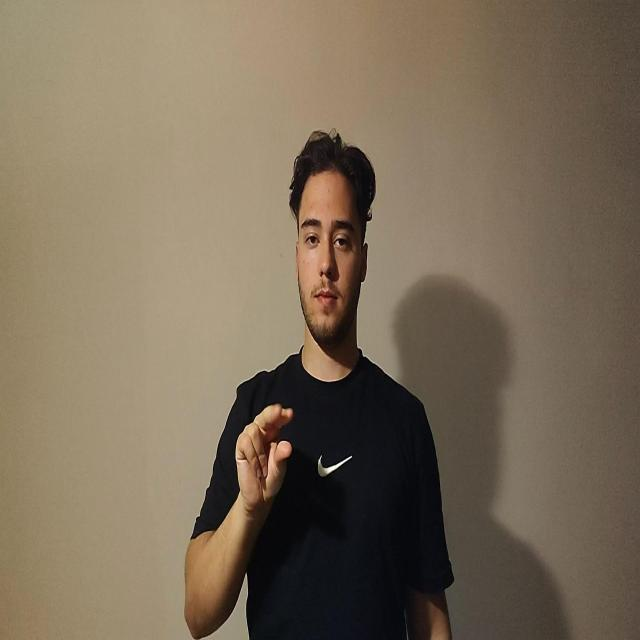no: (234, 402, 294, 520)
